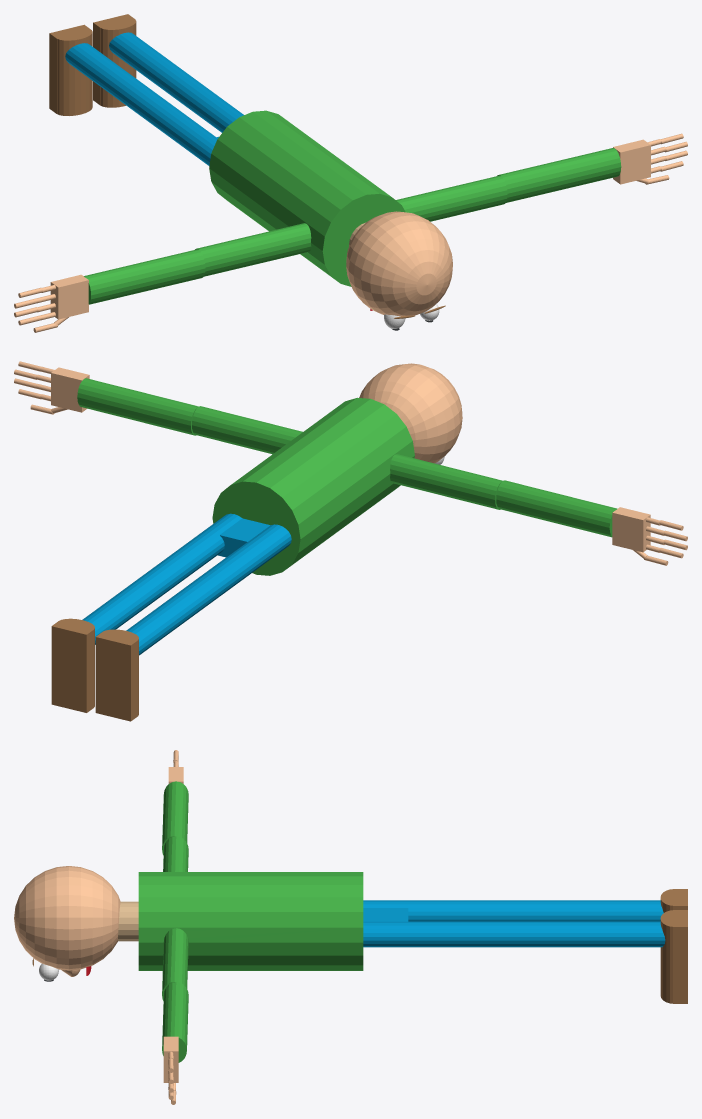
The model's file is tinker.obj.
3 renders of one model, top to bottom at view 1: azimuth 30°, elevation 25°; view 2: azimuth 150°, elevation 25°; view 3: azimuth 270°, elevation 25°, orthographic.
Visible parts, largest first — view 1: group_0_4634441, group_0_16500122, group_0_40919, group_0_11107152; view 2: group_0_4634441, group_0_40919, group_0_16500122, group_0_11107152; view 3: group_0_4634441, group_0_40919, group_0_16500122, group_0_11107152, group_0_14860437.
Part boxes in pixels (<box>): group_0_4634441: <box>84,110,621,304</box>; group_0_16500122: <box>14,133,687,332</box>; group_0_40919: <box>65,32,243,165</box>; group_0_11107152: <box>49,14,445,318</box>; group_0_4634441: <box>77,378,617,575</box>; group_0_40919: <box>82,513,291,655</box>; group_0_16500122: <box>14,361,687,565</box>; group_0_11107152: <box>51,618,138,721</box>; group_0_4634441: <box>138,781,363,1062</box>; group_0_40919: <box>363,900,665,947</box>; group_0_16500122: <box>14,750,183,1104</box>; group_0_11107152: <box>32,889,687,1003</box>; group_0_14860437: <box>118,901,138,941</box>.
Size of the model in its own units: 153 by 25 by 135.
